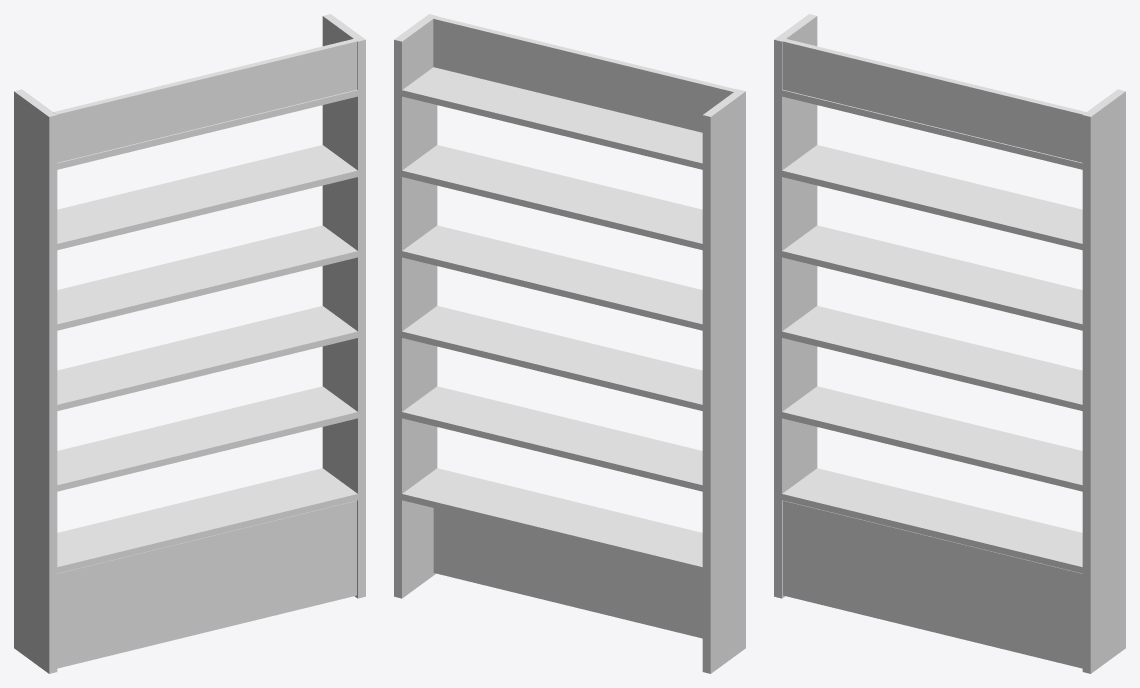
File: Cabinet.FBX
3 views of the same model, side by side, from view 1: azimuth 30°, elevation 25°; view 2: azimuth 150°, elevation 25°; view 3: azimuth 330°, elevation 25° (orthographic).
Visible parts, largest first — view 1: cabinet; view 2: cabinet; view 3: cabinet.
Part boxes in pixels (box(x1,y1,x2,y2)): cabinet: box(14, 14, 365, 673); cabinet: box(394, 14, 745, 673); cabinet: box(774, 14, 1125, 673).
Bounding box in the file's own units: 156 × 262 × 30.
1 material, 1 textured.
